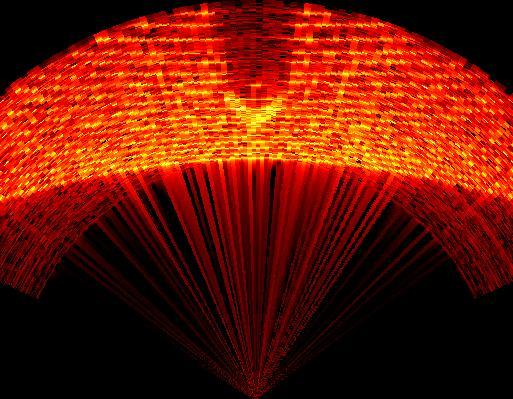box_crate: (208, 3, 298, 94)
